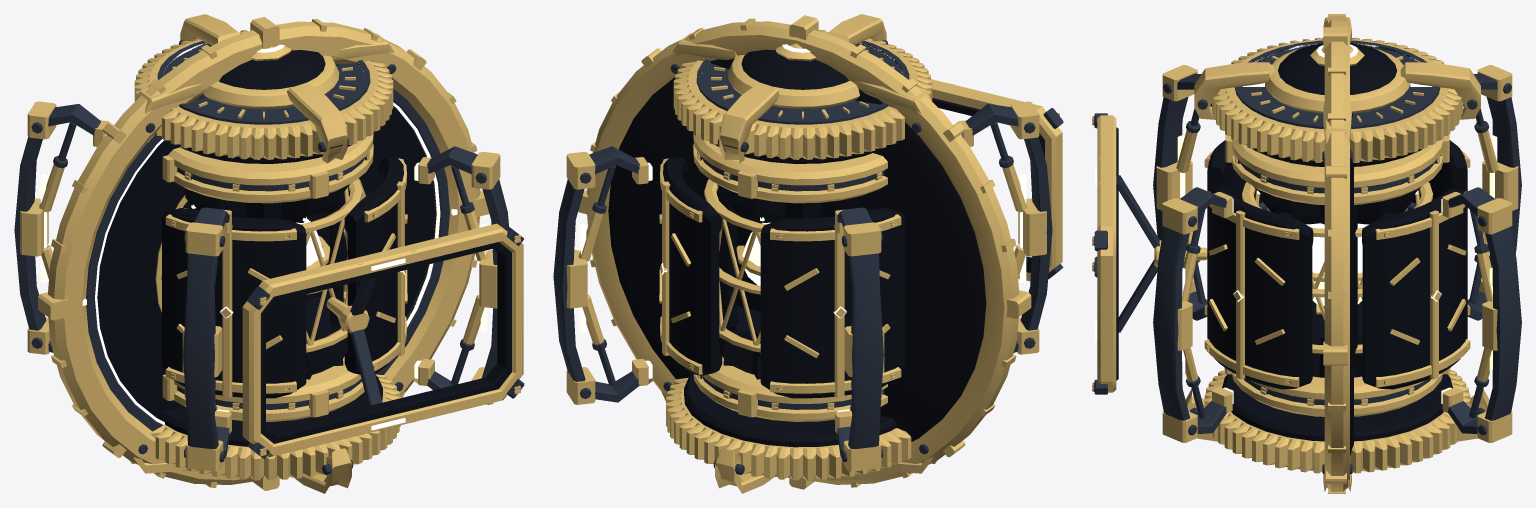
Rendered from veritas_prism_hero.glb.
3 views of the same model, side by side, from view 1: azimuth 30°, elevation 25°; view 2: azimuth 150°, elevation 25°; view 3: azimuth 270°, elevation 25° (orthographic). The views are drawn at different scales.
Visible parts, largest first — view 1: Calibrator_Bezel, Crown_Top, FacetHousing_Template, Core_Spindle, Shutter_3, ClampJaw_3, Crown_Bottom, ClampJaw_2, Shutter_0, ClampJaw_0; view 2: Calibrator_Bezel, Crown_Top, Core_Spindle, Shutter_2, Crown_Bottom, Shutter_1, ClampJaw_1, ClampJaw_2, ClampJaw_3, FacetHousing_Template; view 3: Crown_Top, Shutter_0, Shutter_1, Core_Spindle, Calibrator_Bezel, Crown_Bottom, ClampJaw_1, ClampJaw_0, FacetHousing_Template, ClampJaw_2, ClampJaw_3, Shutter_2 (+1 smaller).
Boxes of the visible parts, left/top/right/bottom form: Calibrator_Bezel: left=38, top=17, right=489, bottom=490; Crown_Top: left=134, top=14, right=396, bottom=163; FacetHousing_Template: left=242, top=223, right=524, bottom=458; Core_Spindle: left=162, top=134, right=373, bottom=421; Shutter_3: left=162, top=208, right=306, bottom=398; ClampJaw_3: left=182, top=207, right=231, bottom=471; Crown_Bottom: left=130, top=374, right=405, bottom=493; ClampJaw_2: left=14, top=101, right=109, bottom=354; Shutter_0: left=344, top=157, right=407, bottom=374; ClampJaw_0: left=414, top=146, right=508, bottom=404; Calibrator_Bezel: left=578, top=15, right=1031, bottom=489; Crown_Top: left=670, top=14, right=932, bottom=163; Core_Spindle: left=693, top=134, right=887, bottom=421; Shutter_2: left=760, top=208, right=904, bottom=398; Crown_Bottom: left=661, top=374, right=936, bottom=493; Shutter_1: left=659, top=157, right=722, bottom=375; ClampJaw_1: left=553, top=146, right=652, bottom=404; ClampJaw_2: left=835, top=207, right=884, bottom=471; ClampJaw_3: left=958, top=101, right=1052, bottom=354; FacetHousing_Template: left=931, top=79, right=1063, bottom=281; Crown_Top: left=1194, top=17, right=1480, bottom=166; Shutter_0: left=1204, top=188, right=1313, bottom=389; Shutter_1: left=1362, top=188, right=1470, bottom=389; Core_Spindle: left=1225, top=134, right=1449, bottom=416; Calibrator_Bezel: left=1323, top=14, right=1357, bottom=493; Crown_Bottom: left=1185, top=368, right=1489, bottom=491; ClampJaw_1: left=1441, top=187, right=1521, bottom=442; ClampJaw_0: left=1153, top=187, right=1233, bottom=442; FacetHousing_Template: left=1092, top=113, right=1207, bottom=394; ClampJaw_2: left=1462, top=65, right=1521, bottom=320; ClampJaw_3: left=1153, top=65, right=1212, bottom=320; Shutter_2: left=1407, top=140, right=1470, bottom=315.
Size of the model in its own units: 1.92 by 1.92 by 1.67.
